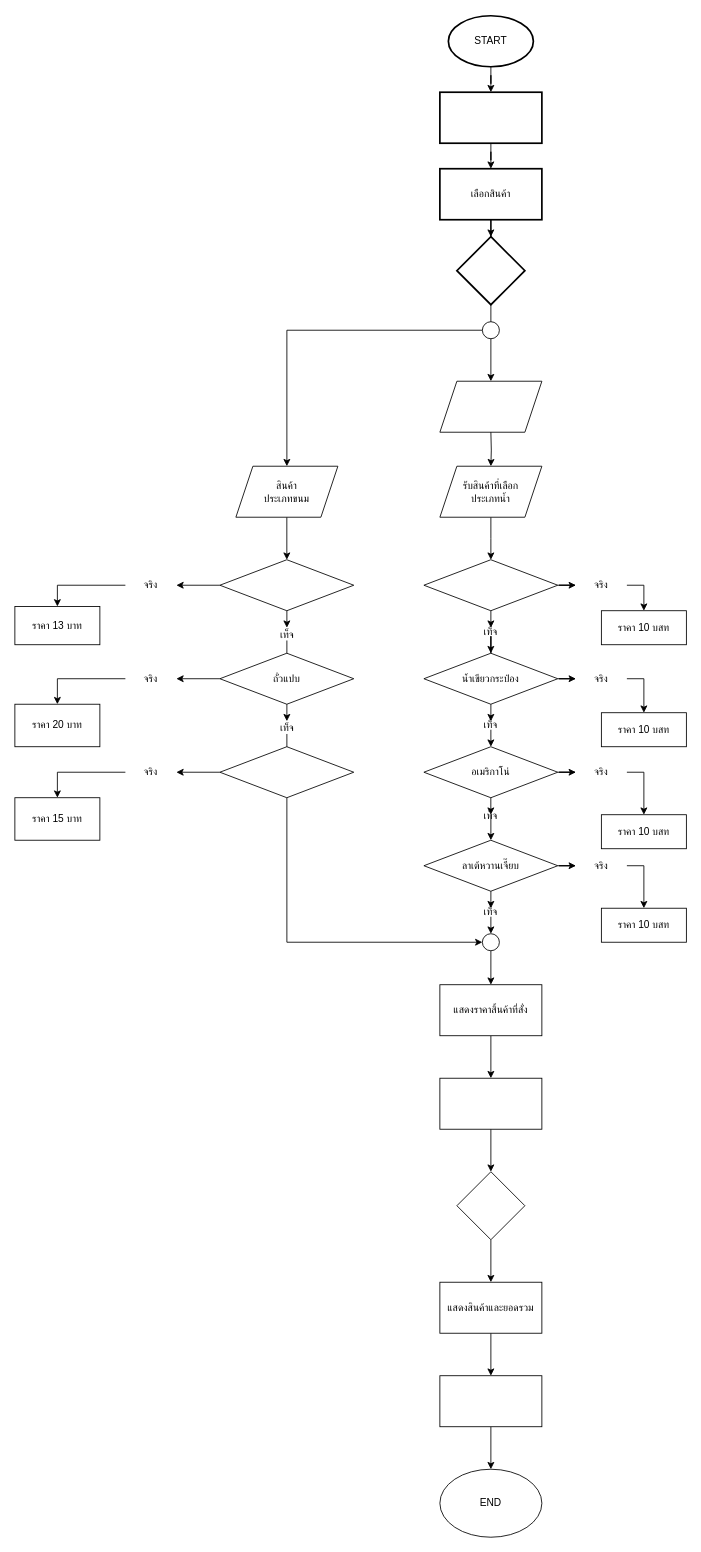
This 701x1552 diagram has some shape labels left out. Here are the shapes that lost their labels. From the top down, the centre of each, then its label:
At point (490, 117): "แสดงรายการสินค้า".
At point (490, 270): "ประเภทสินค้า".
At point (490, 406): "สินค้าประเภทนํ้า".
At point (286, 585): "เมล็ดถามตะวัน".
At point (490, 585): "โค้กกระป๋อง".
At point (286, 772): "จิ้นส้มหมก".
At point (490, 1103): "รวมราคาสินค้า".
At point (490, 1205): "จำนวนเงิน".
At point (490, 1401): "ชำระเงินตามจำนวน".
